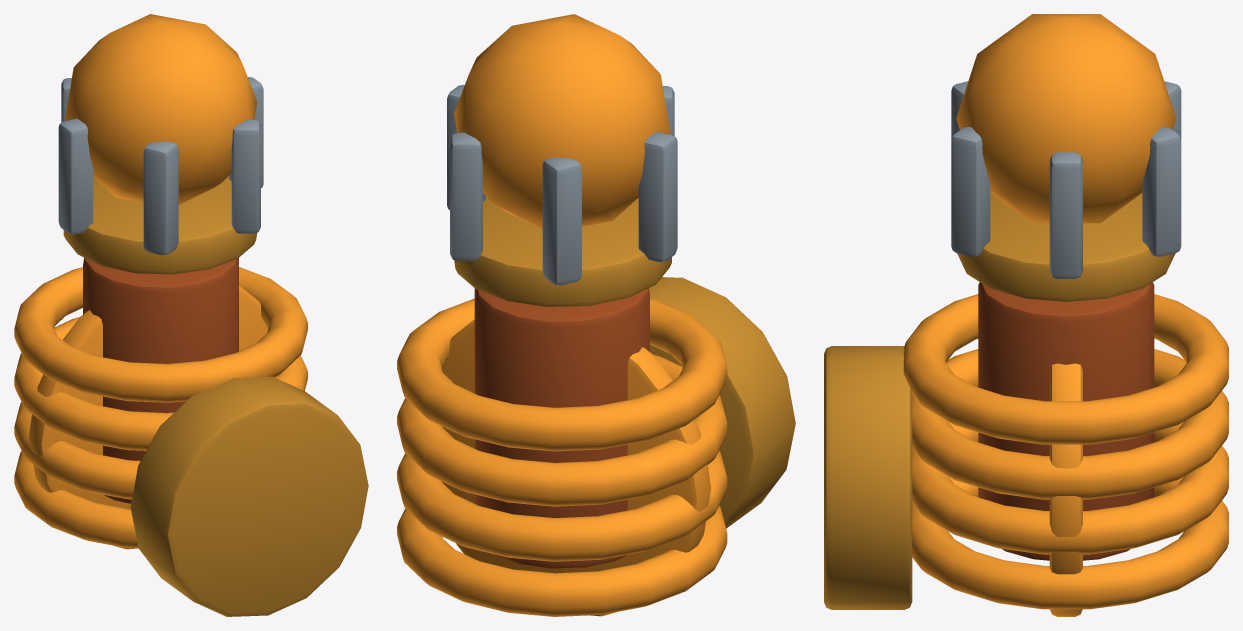
Rendered from TeslaB2.obj.
3 views of the same model, side by side, from view 1: azimuth 30°, elevation 25°; view 2: azimuth 150°, elevation 25°; view 3: azimuth 270°, elevation 25° (orthographic). The views are drawn at different scales.
Visible parts, largest first — view 1: TeslaB2; view 2: TeslaB2; view 3: TeslaB2.
Part boxes in pixels (<box>): TeslaB2: <box>14,14,368,616</box>; TeslaB2: <box>397,14,795,616</box>; TeslaB2: <box>824,14,1228,616</box>.
Size of the model in its own units: 0.6 by 1.17 by 0.7353.
